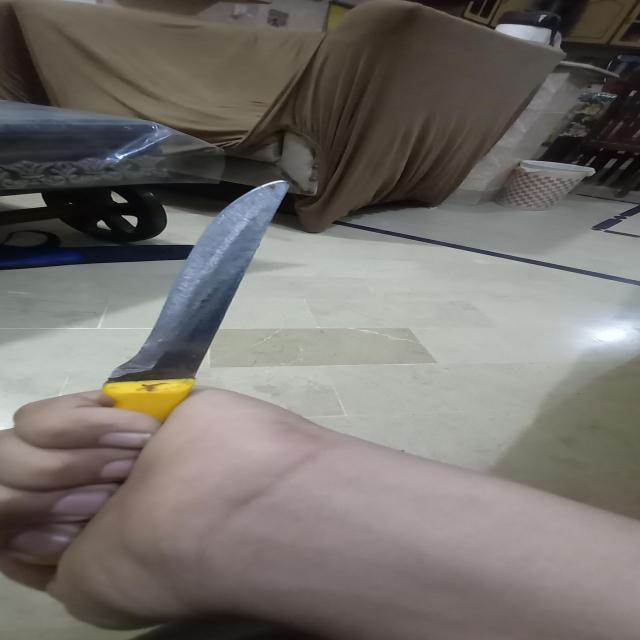faca: (106, 180, 292, 425)
